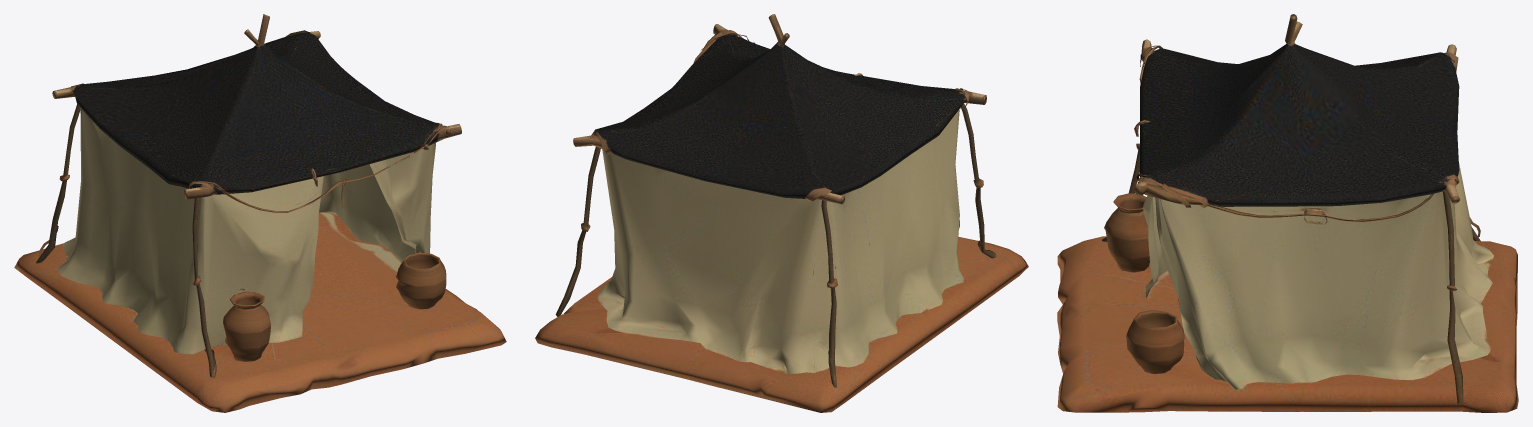
The model's file is house-1.glb.
3 views of the same model, side by side, from view 1: azimuth 30°, elevation 25°; view 2: azimuth 150°, elevation 25°; view 3: azimuth 270°, elevation 25° (orthographic). The views are drawn at different scales.
Bounding box in the file's own units: 0.7974 × 0.7324 × 0.9541.
Materials: 1 (1 with a texture image).
